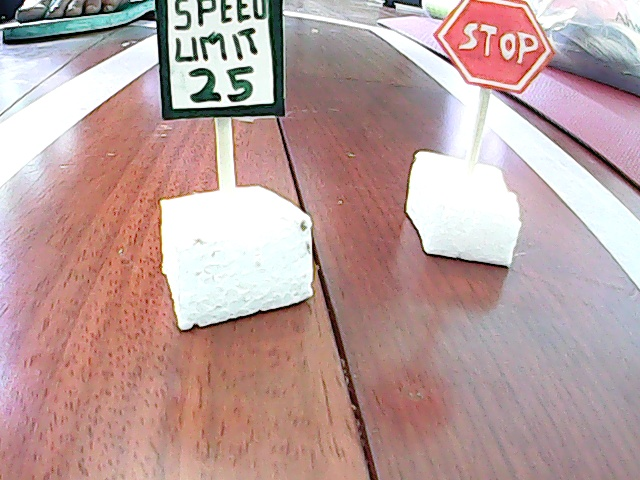speed_25: (146, 1, 328, 300)
stop: (426, 1, 544, 271)
